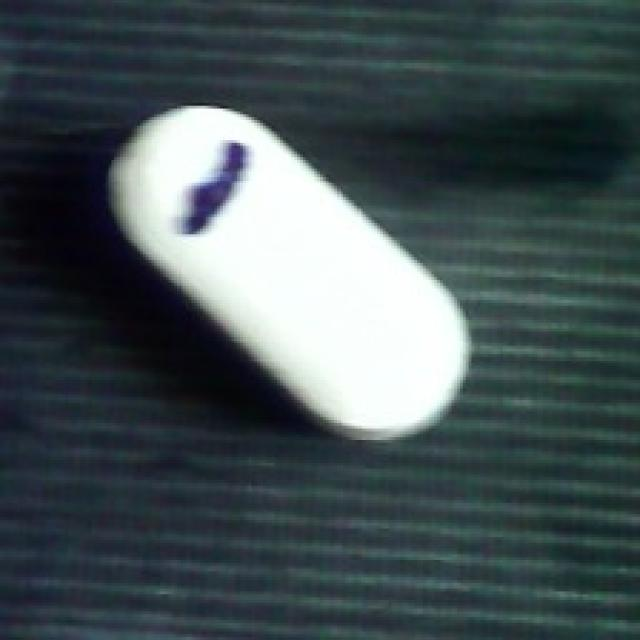defected: (103, 100, 480, 448)
